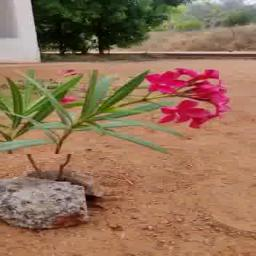OLEANDER: (0, 70, 220, 154)
